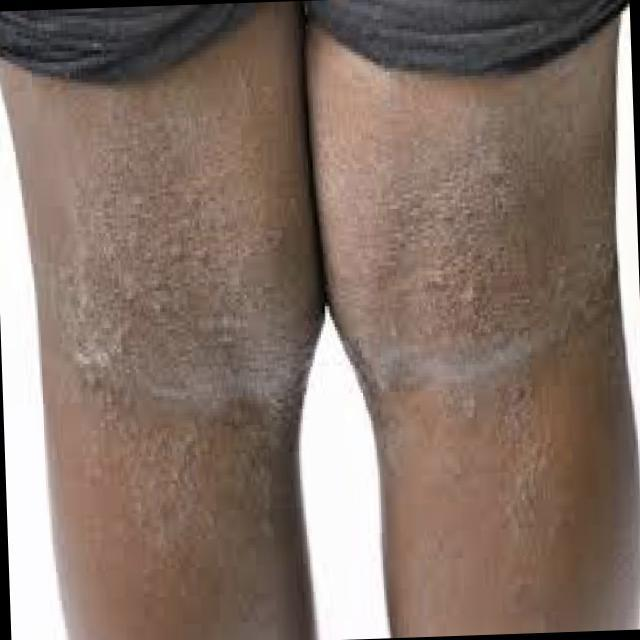Eczema: (33, 92, 294, 553), (345, 100, 621, 446)
